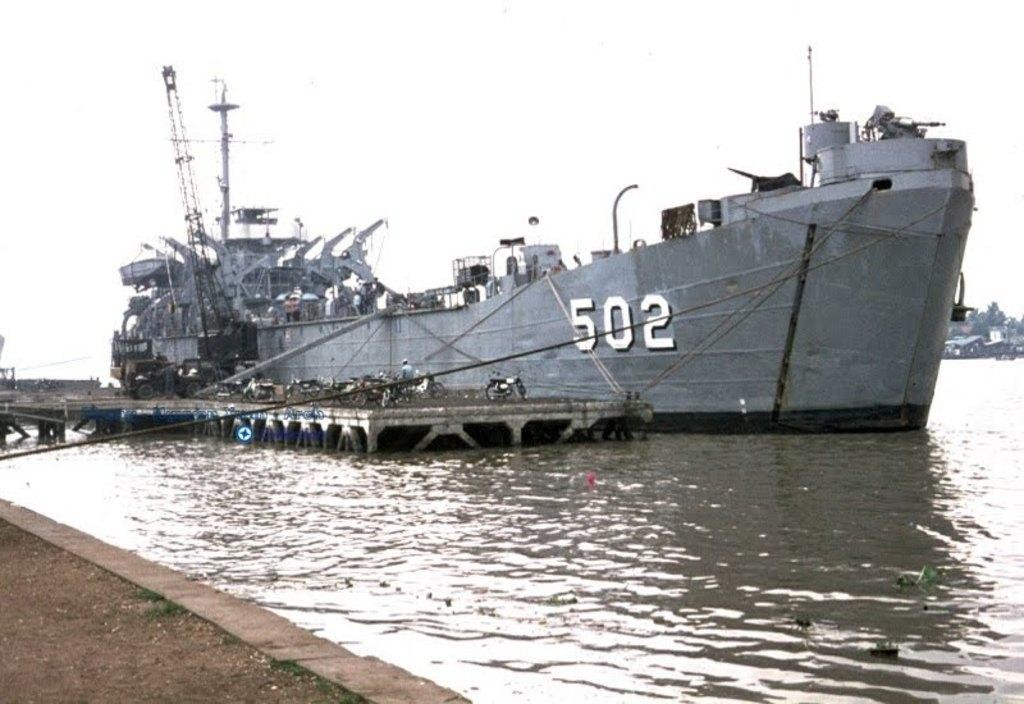Warship: (96, 98, 988, 448)
